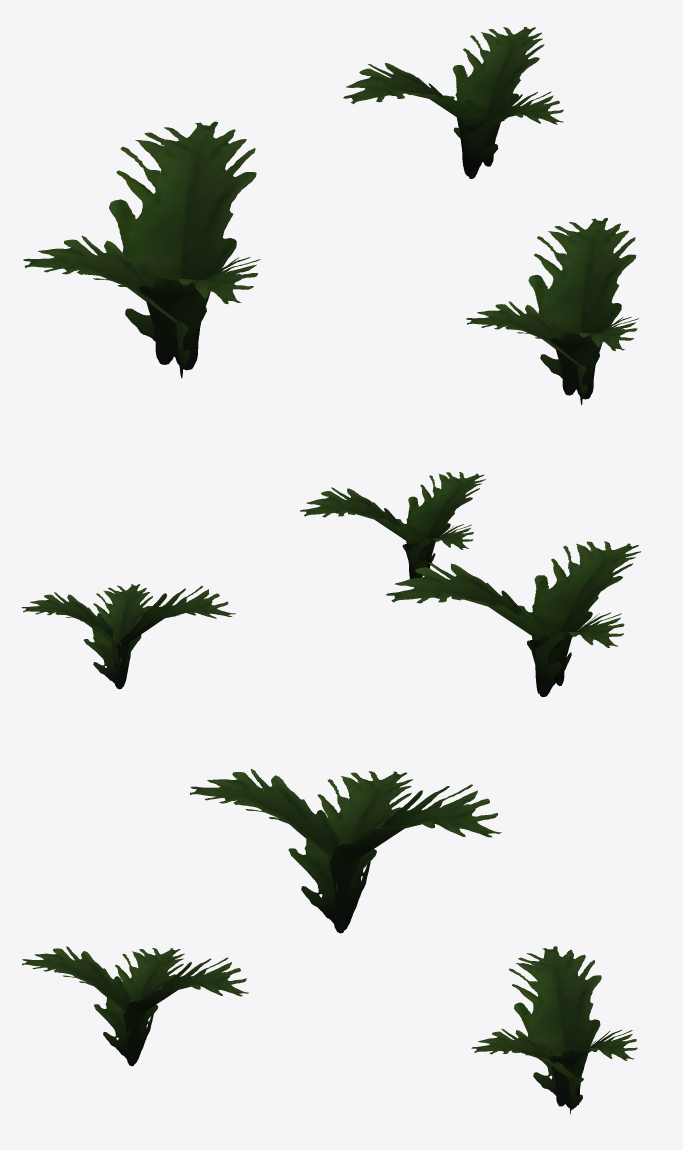
3 views of the same model, one above another, from view 1: azimuth 30°, elevation 25°; view 2: azimuth 150°, elevation 25°; view 3: azimuth 270°, elevation 25° (orthographic). The views are drawn at different scales.
Parts seen in each view (by area): view 1: Object06; view 2: Object06; view 3: Object06.
Boxes of the visible parts, x1,y1,x2,y2 form: Object06: [23, 27, 638, 405]; Object06: [21, 472, 640, 696]; Object06: [22, 769, 637, 1114].
Bounding box in the file's own units: 251 × 68.54 × 232.
